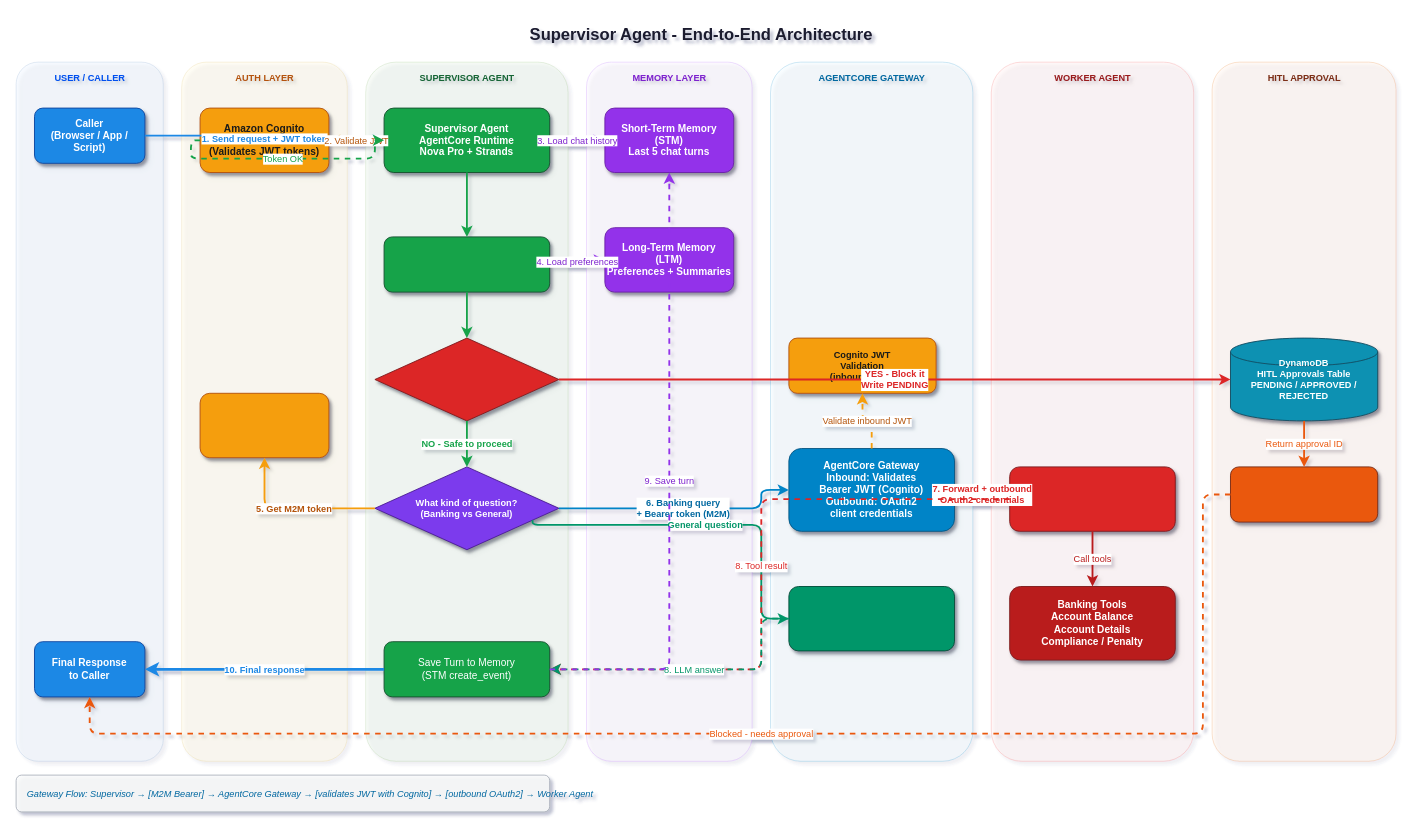
This 1418x834 diagram has some shape labels left out. The shapes that lost their labels are listed below. From the top down, each one's centre as x and y in pixels, then its label:
the point at 467,265: Load Memory STM + LTM context for this user
the point at 467,380: Is this a HIGH-RISK operation? (transfer / withdraw / waive)
the point at 265,426: AgentCore Identity M2M OAuth2 (Agent-to-Agent tokens)
the point at 1093,500: Worker Agent AgentCore Runtime LangGraph - Banking Specialist
the point at 1304,495: BLOCKED Return approval ID to caller
the point at 872,619: Direct LLM Answer Supervisor answers general questions itself
